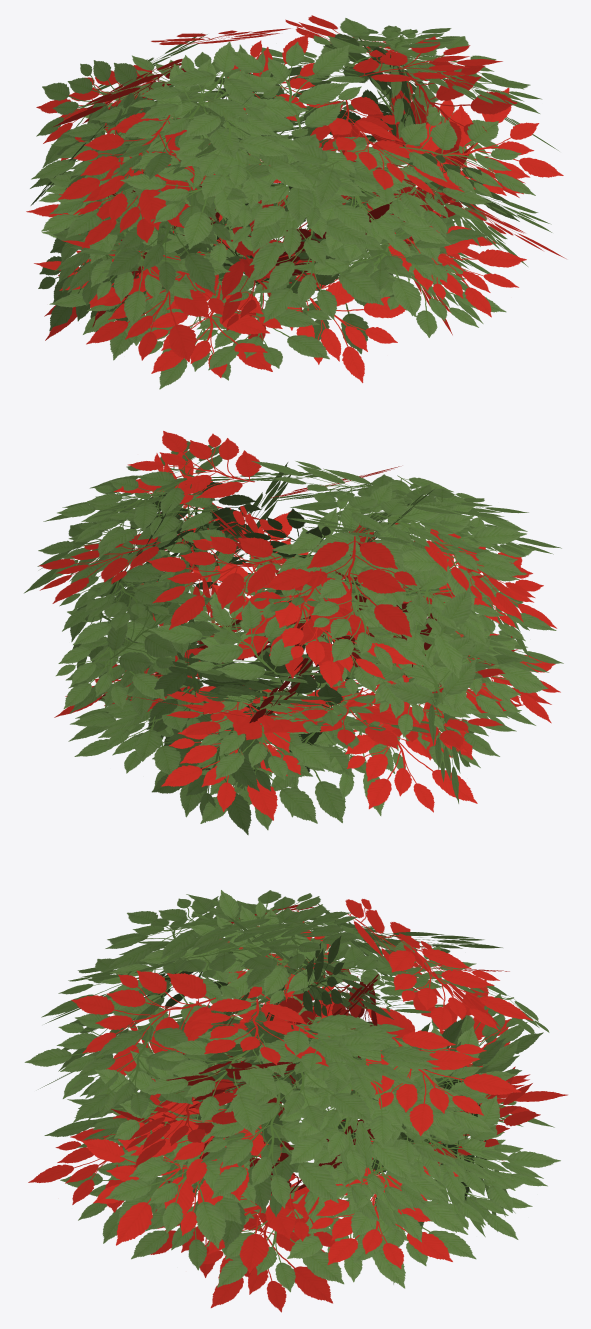
Rendered from hibiscus.glb.
3 renders of one model, top to bottom at view 1: azimuth 30°, elevation 25°; view 2: azimuth 150°, elevation 25°; view 3: azimuth 270°, elevation 25°, orthographic. The views are drawn at different scales.
Visible parts, largest first — view 1: leaves_w; view 2: leaves_w; view 3: leaves_w.
Boxes of the visible parts, <box> form: leaves_w: <box>26,15,565,389</box>; leaves_w: <box>24,431,563,835</box>; leaves_w: <box>24,890,567,1312</box>.
Size of the model in its own units: 2.81 by 1.6 by 2.62.
2 materials, 2 textured.
